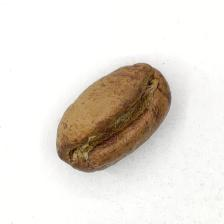NG: (76, 76, 159, 157)
